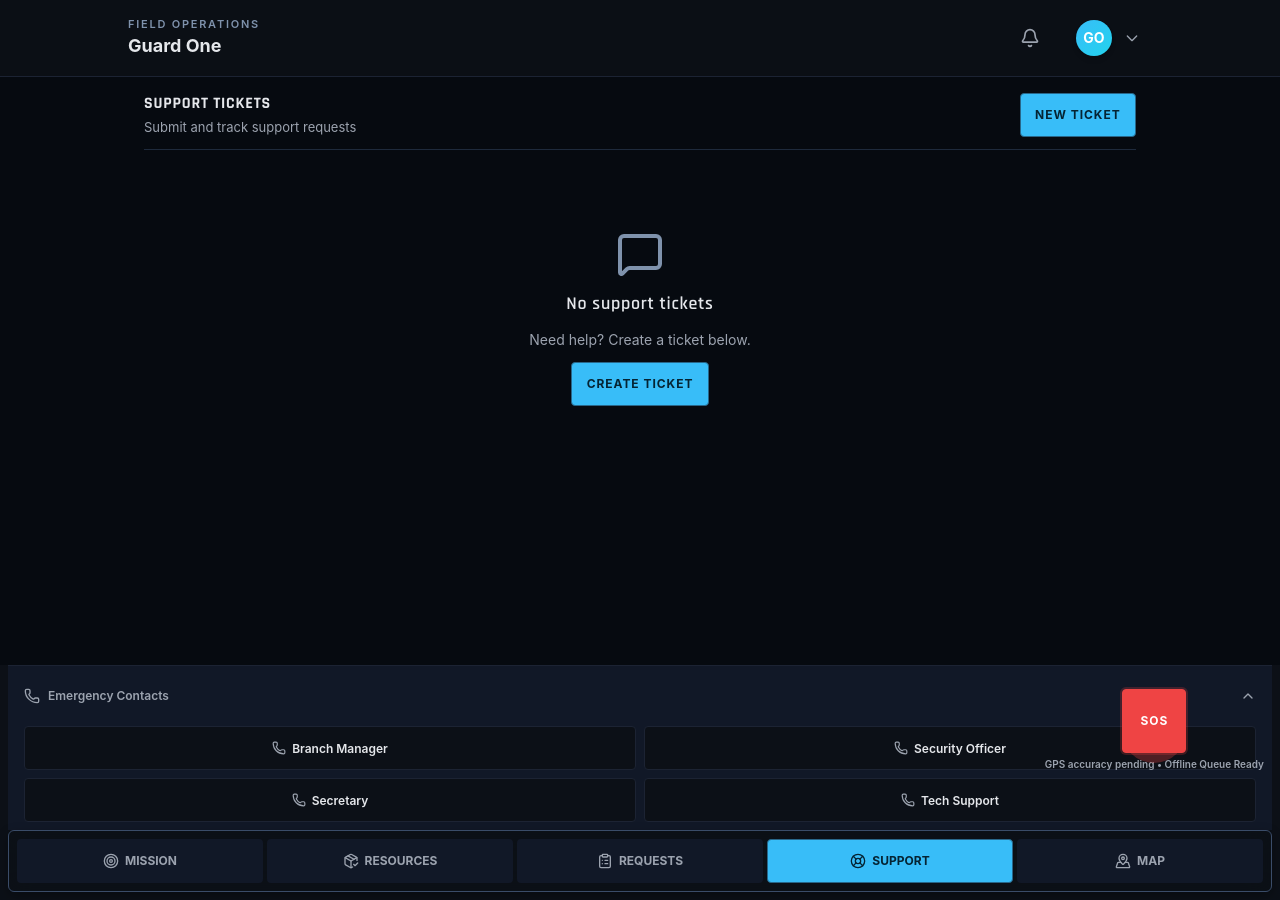
Test: guard dashboard redesign tranche › opens the create ticket form from the support workspace
Click the button "New Ticket".
click(1078, 115)  # box 1020,93 -> 1136,137
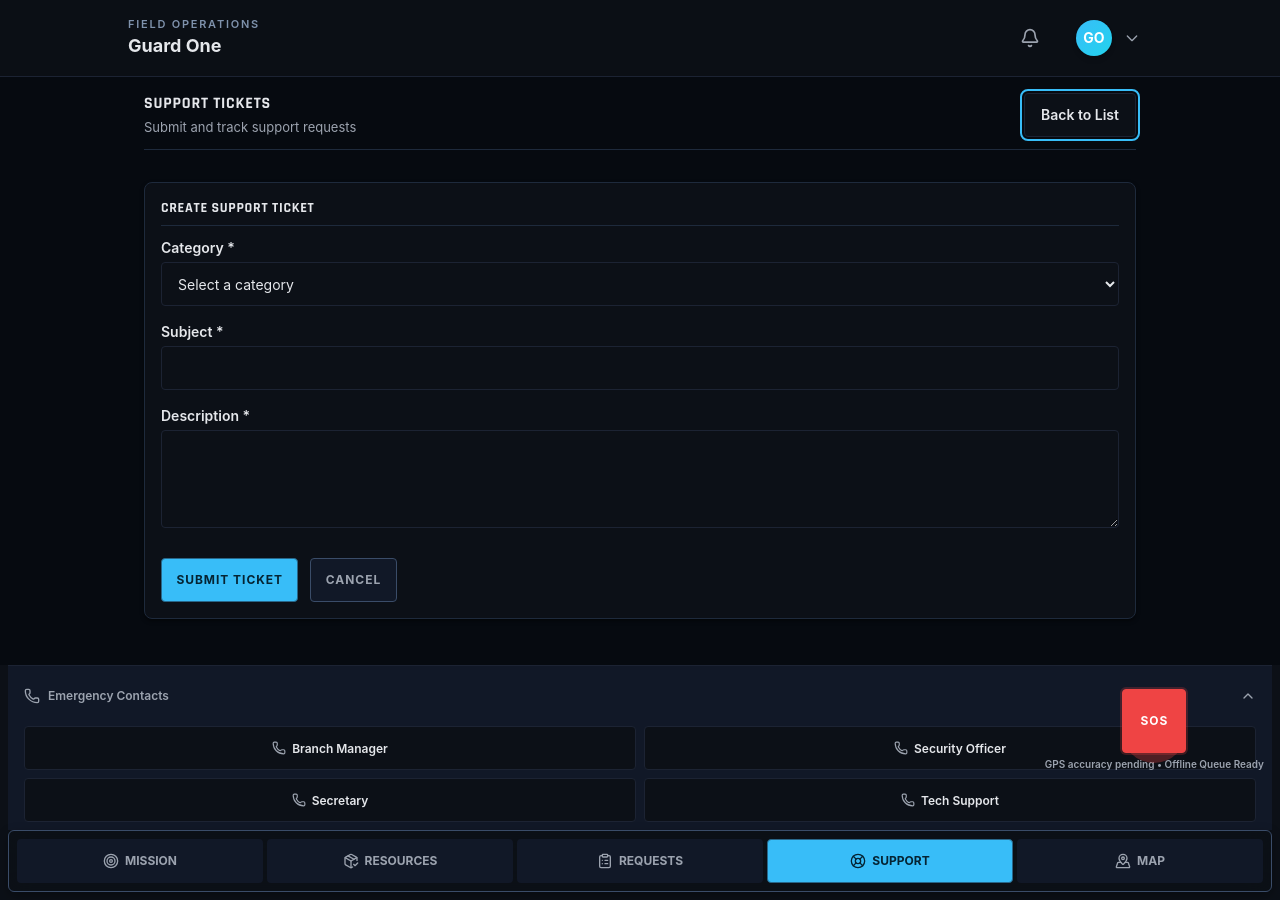
Expected: the heading "Create Support Ticket" is shown, 161,199 -> 314,217
Expected: the dropdown labelled "Category *" is shown, 161,262 -> 1119,306
Expected: the field labelled "Subject *" is shown, 161,346 -> 1119,390
